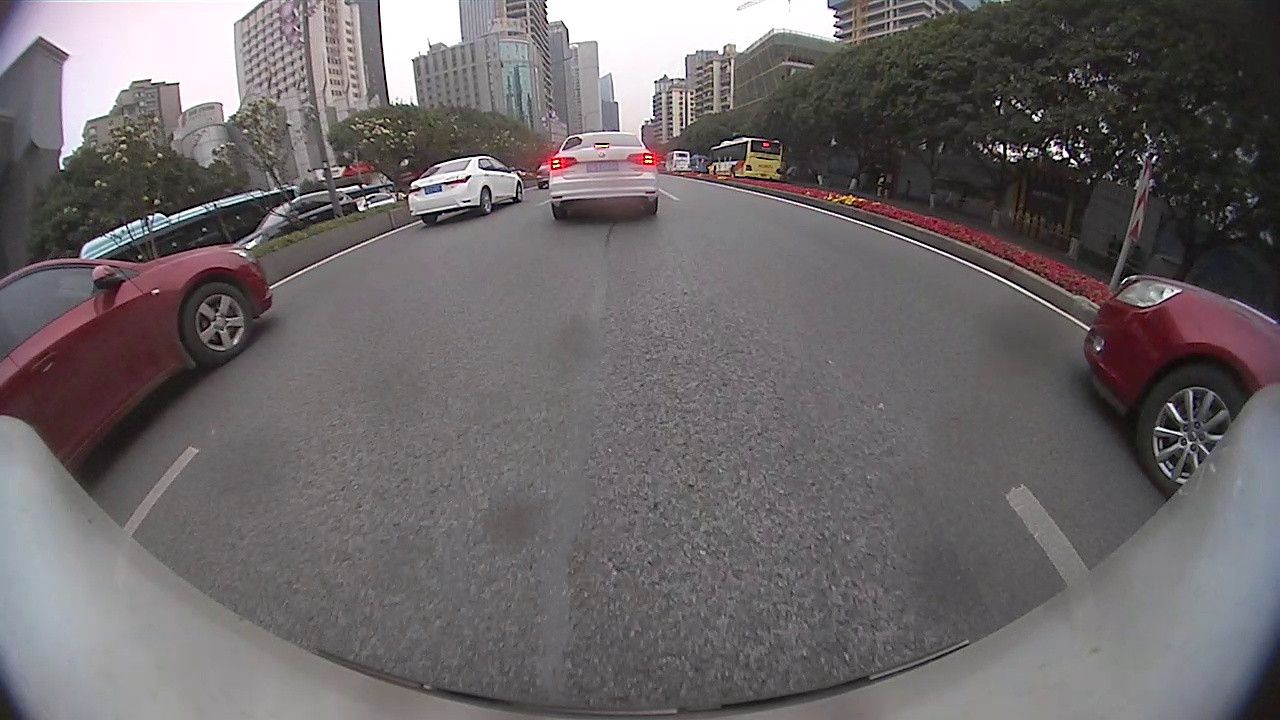bus: (80, 185, 296, 265), (709, 136, 783, 177), (664, 148, 691, 173), (688, 153, 711, 173)
car: (1, 244, 272, 475), (1082, 272, 1279, 494), (548, 127, 659, 223), (405, 157, 524, 226), (236, 189, 357, 247), (535, 157, 558, 185)
front: (1140, 369, 1246, 493), (180, 283, 254, 365), (515, 182, 524, 200)
rear: (479, 186, 494, 215)
